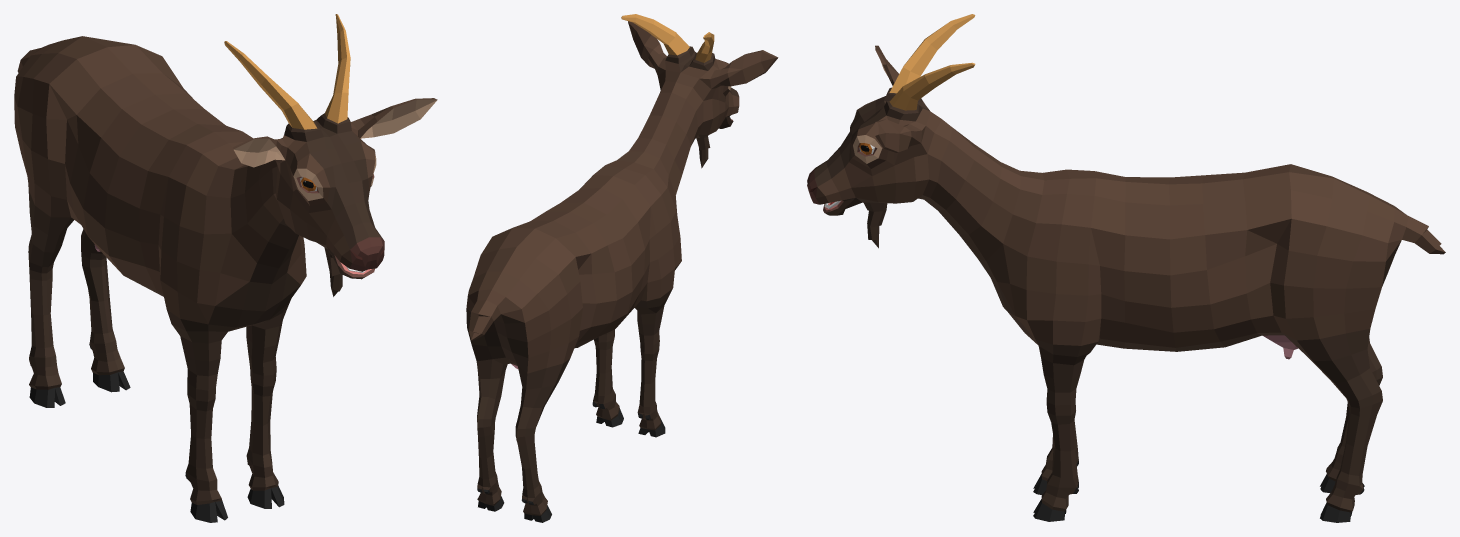
File: LowPoly_Goat_Fem_2.obj
3 renders of one model, left to right at view 1: azimuth 30°, elevation 25°; view 2: azimuth 150°, elevation 25°; view 3: azimuth 270°, elevation 25°, orthographic. The views are drawn at different scales.
Parts seen in each view (by area): view 1: Goat_Fem_2_Cube.001; view 2: Goat_Fem_2_Cube.001; view 3: Goat_Fem_2_Cube.001.
Boxes of the visible parts, left/top/right/bottom form: Goat_Fem_2_Cube.001: left=14, top=14, right=437, bottom=522; Goat_Fem_2_Cube.001: left=466, top=14, right=778, bottom=522; Goat_Fem_2_Cube.001: left=807, top=14, right=1445, bottom=522.
Bounding box in the file's own units: 0.3947 × 0.9443 × 1.18.
